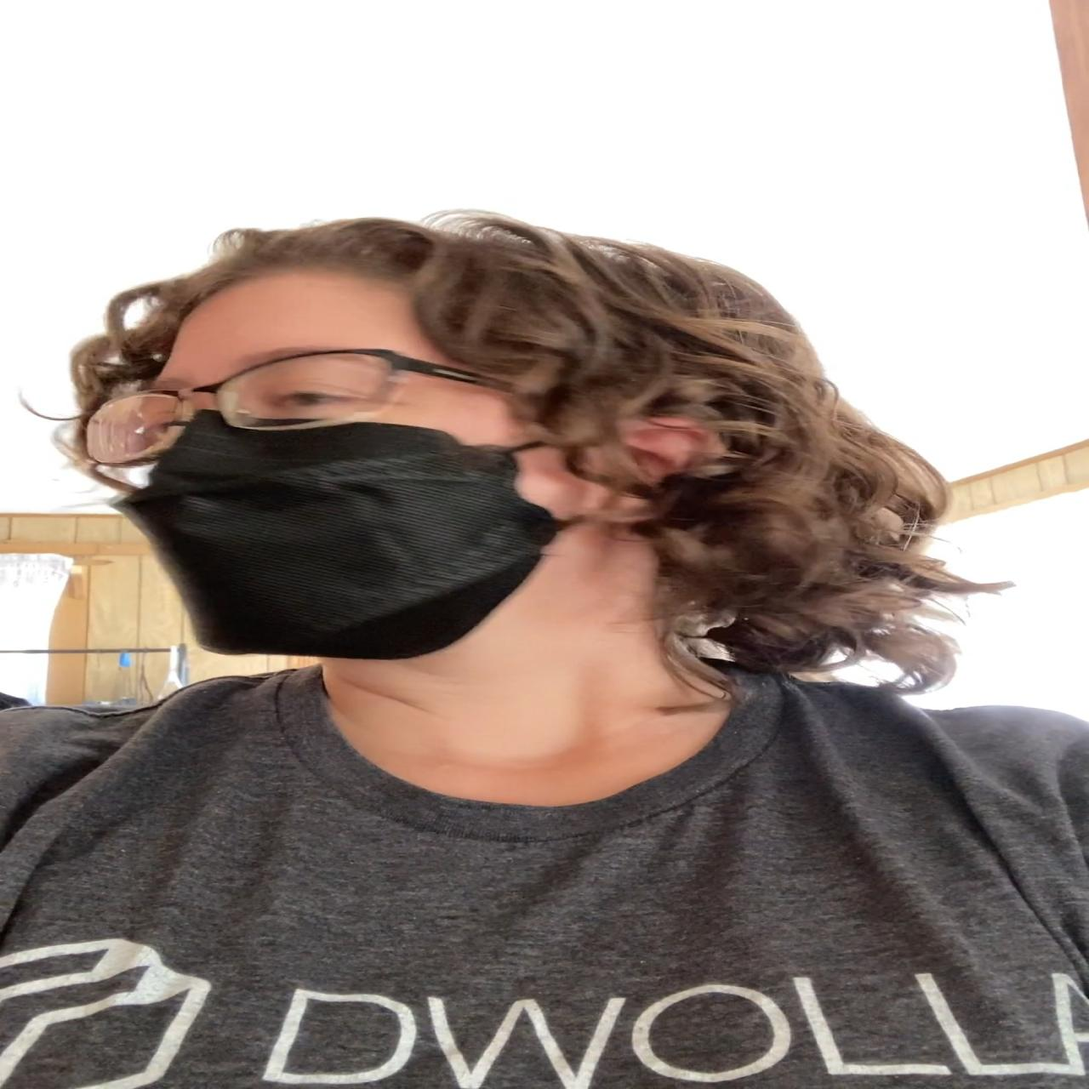NO_Safety_Vest: (25, 669, 1089, 1089)
Person: (0, 198, 1089, 1089)
